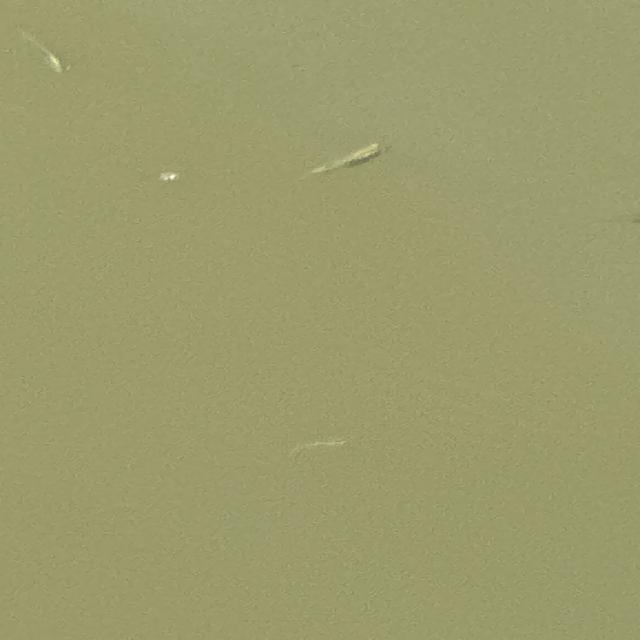Sivrisinek Baligi: (302, 136, 386, 182), (18, 25, 76, 72), (288, 428, 356, 458)
